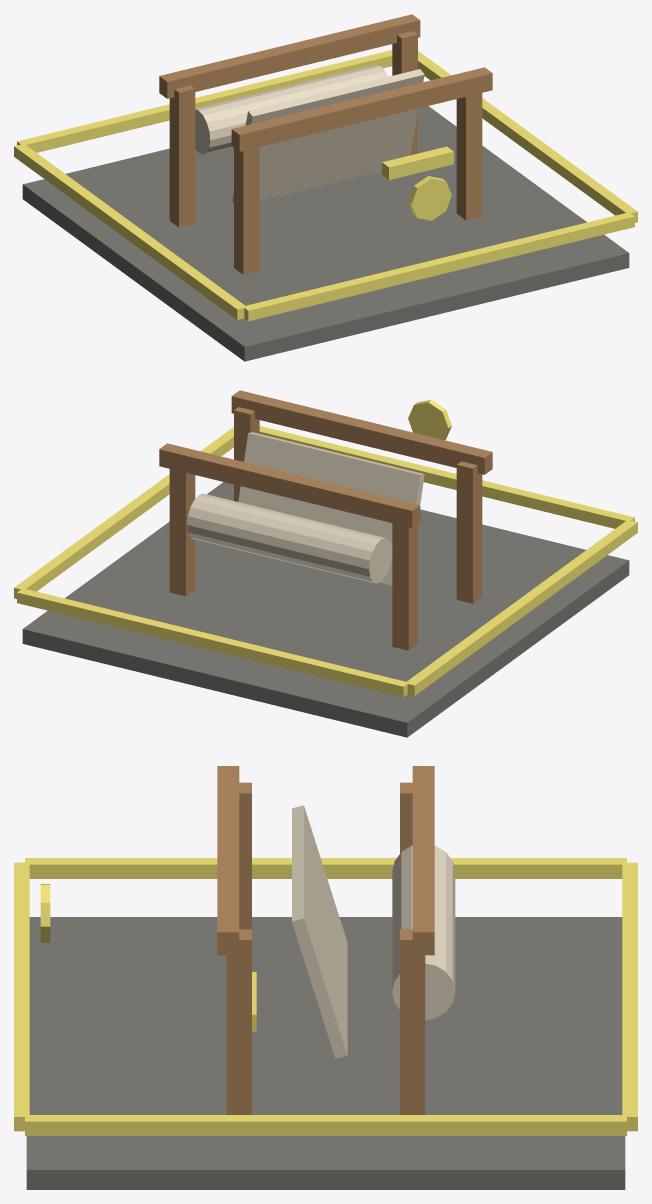
The model's file is t7_loom.glb.
The picture shows the model from 3 angles, top to bottom: view 1: azimuth 30°, elevation 25°; view 2: azimuth 150°, elevation 25°; view 3: azimuth 270°, elevation 25°; orthographic projection. The views are drawn at different scales.
Parts seen in each view (by area): view 1: FootprintBase, ClothSheet, FrontBeam, TierFrontTrim, BackBeam, TierLeftTrim, TierBackTrim, ClothRoll, FramePost.001, TierRightTrim, FramePost.002, FramePost (+3 smaller); view 2: FootprintBase, ClothRoll, ClothSheet, BackBeam, TierBackTrim, FrontBeam, TierLeftTrim, TierFrontTrim, FramePost, TierRightTrim, FramePost.001, FramePost.003 (+2 smaller); view 3: FootprintBase, TierRightTrim, TierLeftTrim, ClothSheet, ClothRoll, FramePost.002, FramePost.003, BackBeam, FrontBeam, TierFrontTrim, TierBackTrim, FramePost (+2 smaller).
Boxes of the visible parts, x1,y1,x2,y2 form: FootprintBase: (22, 106, 629, 361); ClothSheet: (232, 69, 424, 202); FrontBeam: (231, 67, 492, 151); TierFrontTrim: (243, 213, 634, 321); BackBeam: (159, 14, 420, 98); TierLeftTrim: (14, 144, 246, 319); TierBackTrim: (17, 50, 392, 152); ClothRoll: (195, 64, 387, 154); FramePost.001: (169, 85, 195, 227); TierRightTrim: (418, 51, 637, 222); FramePost.002: (456, 93, 482, 220); FramePost: (234, 147, 259, 274); FootprintBase: (22, 482, 629, 737); ClothRoll: (187, 493, 392, 583); ClothSheet: (238, 432, 424, 585); BackBeam: (159, 443, 420, 527); TierBackTrim: (17, 589, 408, 697); FrontBeam: (231, 390, 492, 474); TierLeftTrim: (406, 520, 637, 695); TierFrontTrim: (259, 426, 634, 528); FramePost: (456, 461, 482, 603); TierRightTrim: (14, 427, 233, 598); FramePost.001: (392, 523, 417, 650); FramePost.003: (169, 469, 195, 596); FootprintBase: (26, 917, 625, 1189); TierRightTrim: (25, 1115, 626, 1135); TierLeftTrim: (25, 858, 626, 878); ClothSheet: (292, 805, 347, 1058); ClothRoll: (392, 845, 455, 1020); FramePost.002: (226, 929, 251, 1114); FramePost.003: (400, 929, 425, 1114); BackBeam: (412, 766, 434, 955); FrontBeam: (217, 766, 239, 955); TierFrontTrim: (14, 862, 29, 1131); TierBackTrim: (622, 862, 637, 1131); FramePost: (239, 782, 251, 929).
Bounding box in the file's own units: 3.96 × 1.5 × 3.96.
